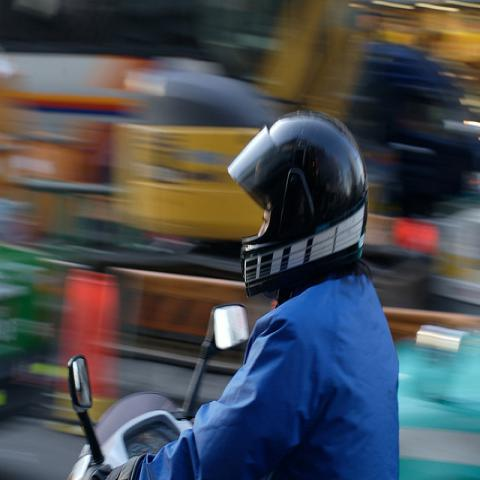motorcycle: (69, 306, 249, 472)
